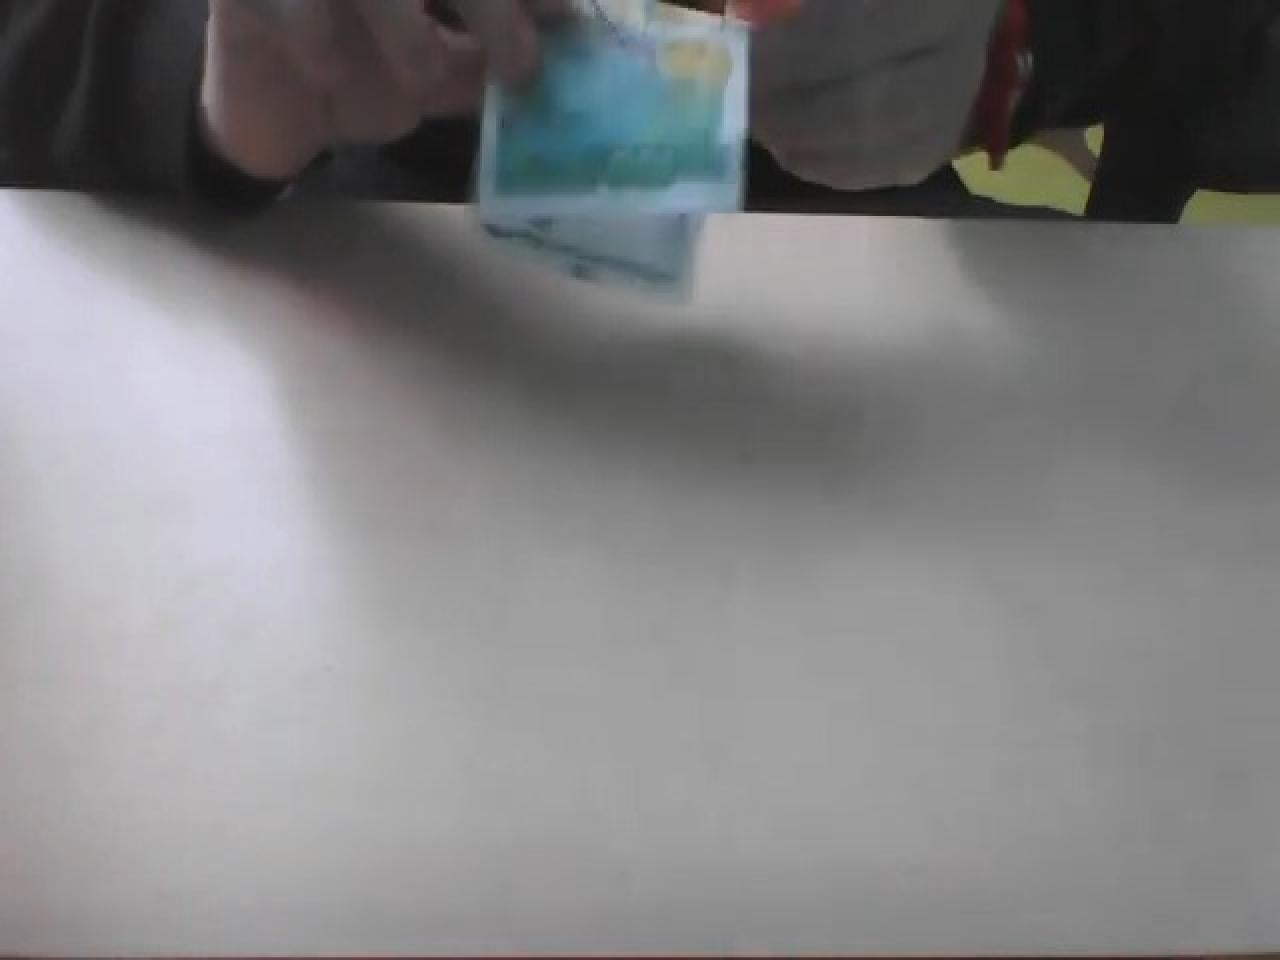100leva: (472, 0, 750, 296)
